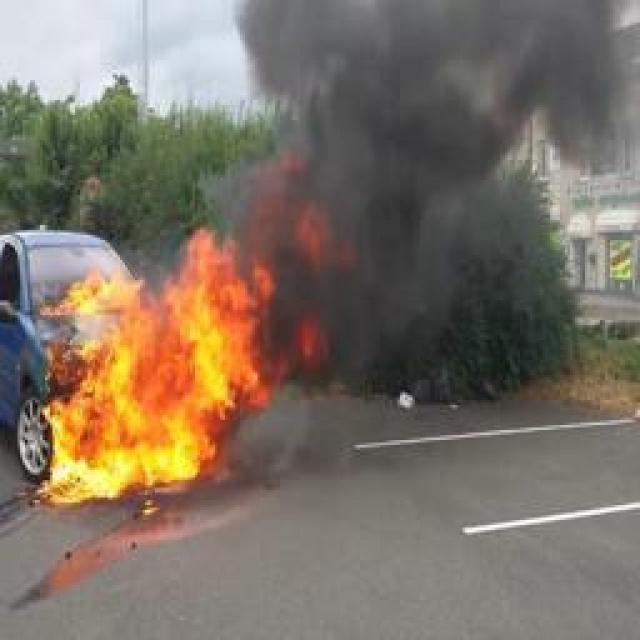Fire: (44, 222, 284, 508)
